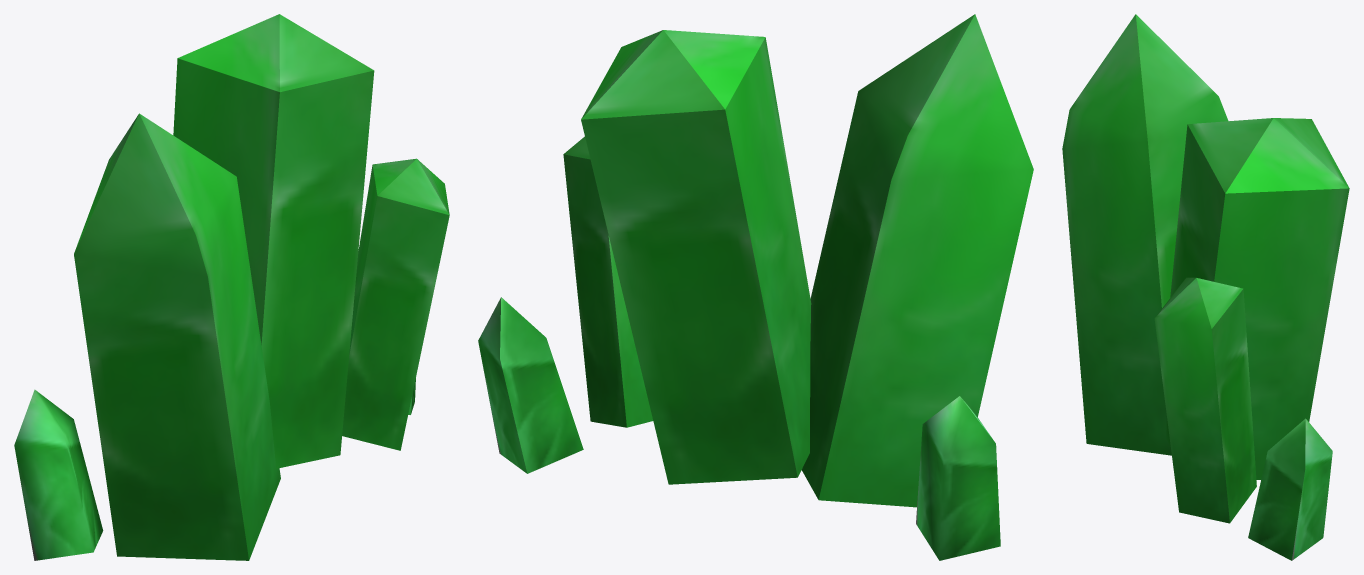
File: scene_malujiakuangdao_kuangshi01.FBX
The picture shows the model from 3 angles, left to right: view 1: azimuth 30°, elevation 25°; view 2: azimuth 150°, elevation 25°; view 3: azimuth 270°, elevation 25°; orthographic projection. The views are drawn at different scales.
Visible parts, largest first — view 1: scene_malujiakuangdao_kuangshi01; view 2: scene_malujiakuangdao_kuangshi01; view 3: scene_malujiakuangdao_kuangshi01.
Part boxes in pixels (x1,y1,x2,y2): scene_malujiakuangdao_kuangshi01: (14, 14, 449, 560); scene_malujiakuangdao_kuangshi01: (478, 14, 1033, 560); scene_malujiakuangdao_kuangshi01: (1062, 14, 1349, 560).
Bounding box in the file's own units: 164 × 163 × 103.
